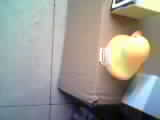duck: (98, 27, 149, 85)
